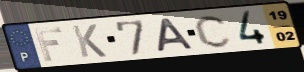4: (237, 9, 269, 47)
7: (113, 18, 146, 57)
A: (156, 17, 197, 54)
C: (193, 13, 234, 50)
F: (33, 26, 64, 62)
K: (69, 23, 109, 59)
